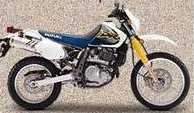motorcycle: (1, 8, 191, 110)
